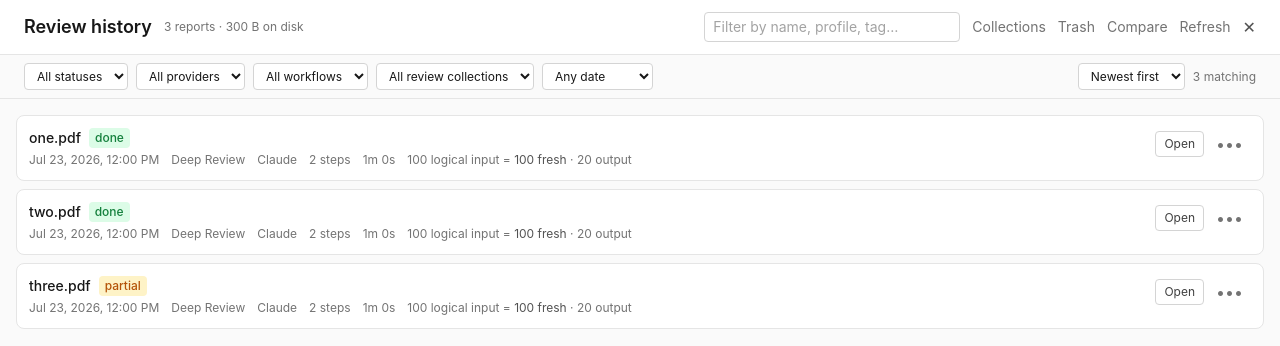
HistoryPage › lists a run with a misquotation as done, not degraded
Expected: the button "one.pdf" is shown, [29,128,81,148]
Select "done" in the dropdown named "Filter by status": (76, 76) [24,63,128,90]
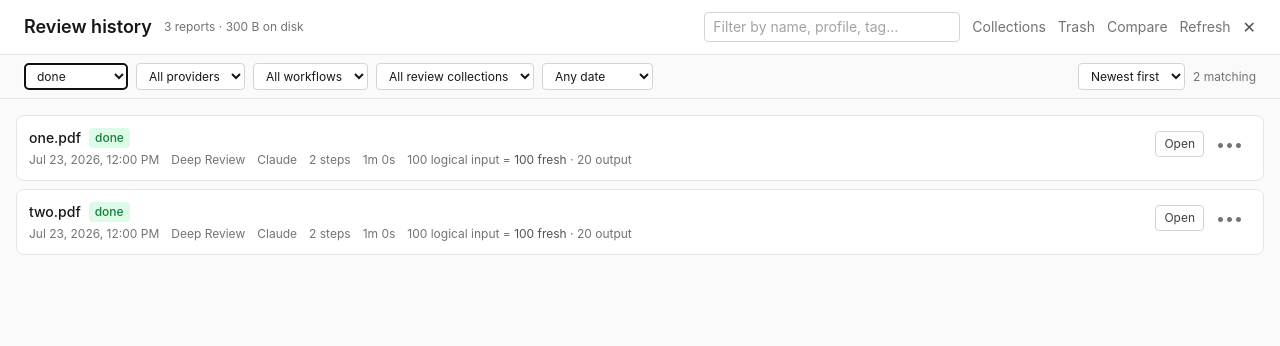
Expected: the button "one.pdf" is shown, [29,128,81,148]
Expected: the button "three.pdf" is gone
